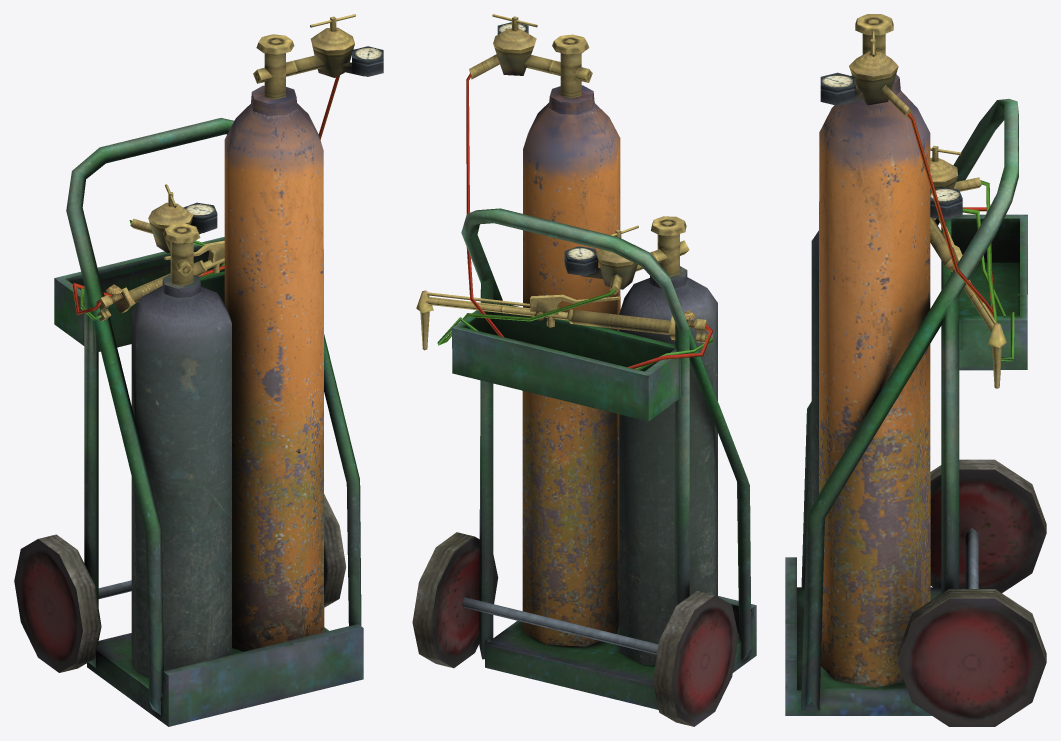
File: tanks.FBX
3 renders of one model, left to right at view 1: azimuth 30°, elevation 25°; view 2: azimuth 150°, elevation 25°; view 3: azimuth 270°, elevation 25°, orthographic. The views are drawn at different scales.
Visible parts, largest first — view 1: tanks; view 2: tanks; view 3: tanks.
Part boxes in pixels (<box>): tanks: <box>14,14,383,726</box>; tanks: <box>412,14,756,726</box>; tanks: <box>785,14,1046,726</box>.
Bounding box in the file's own units: 66.44 × 142 × 49.43.
1 material, 1 textured.
